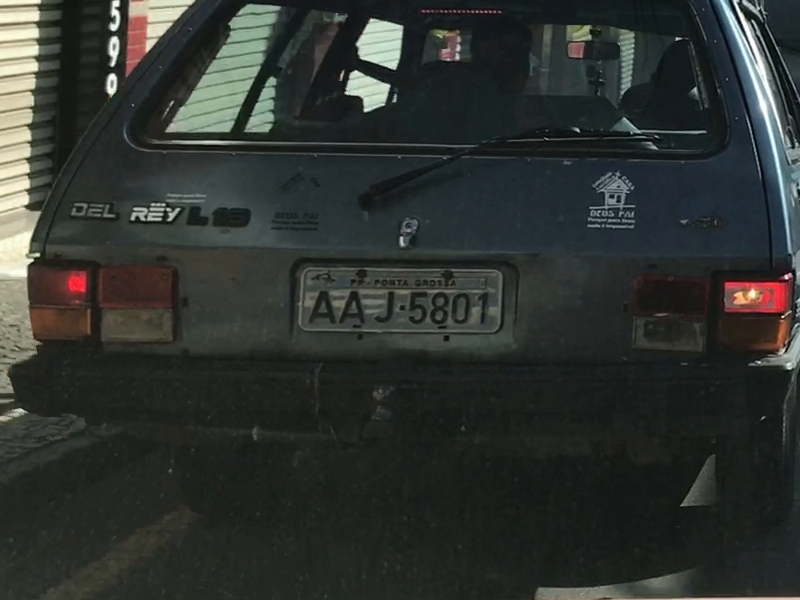placa: (298, 267, 503, 334)
